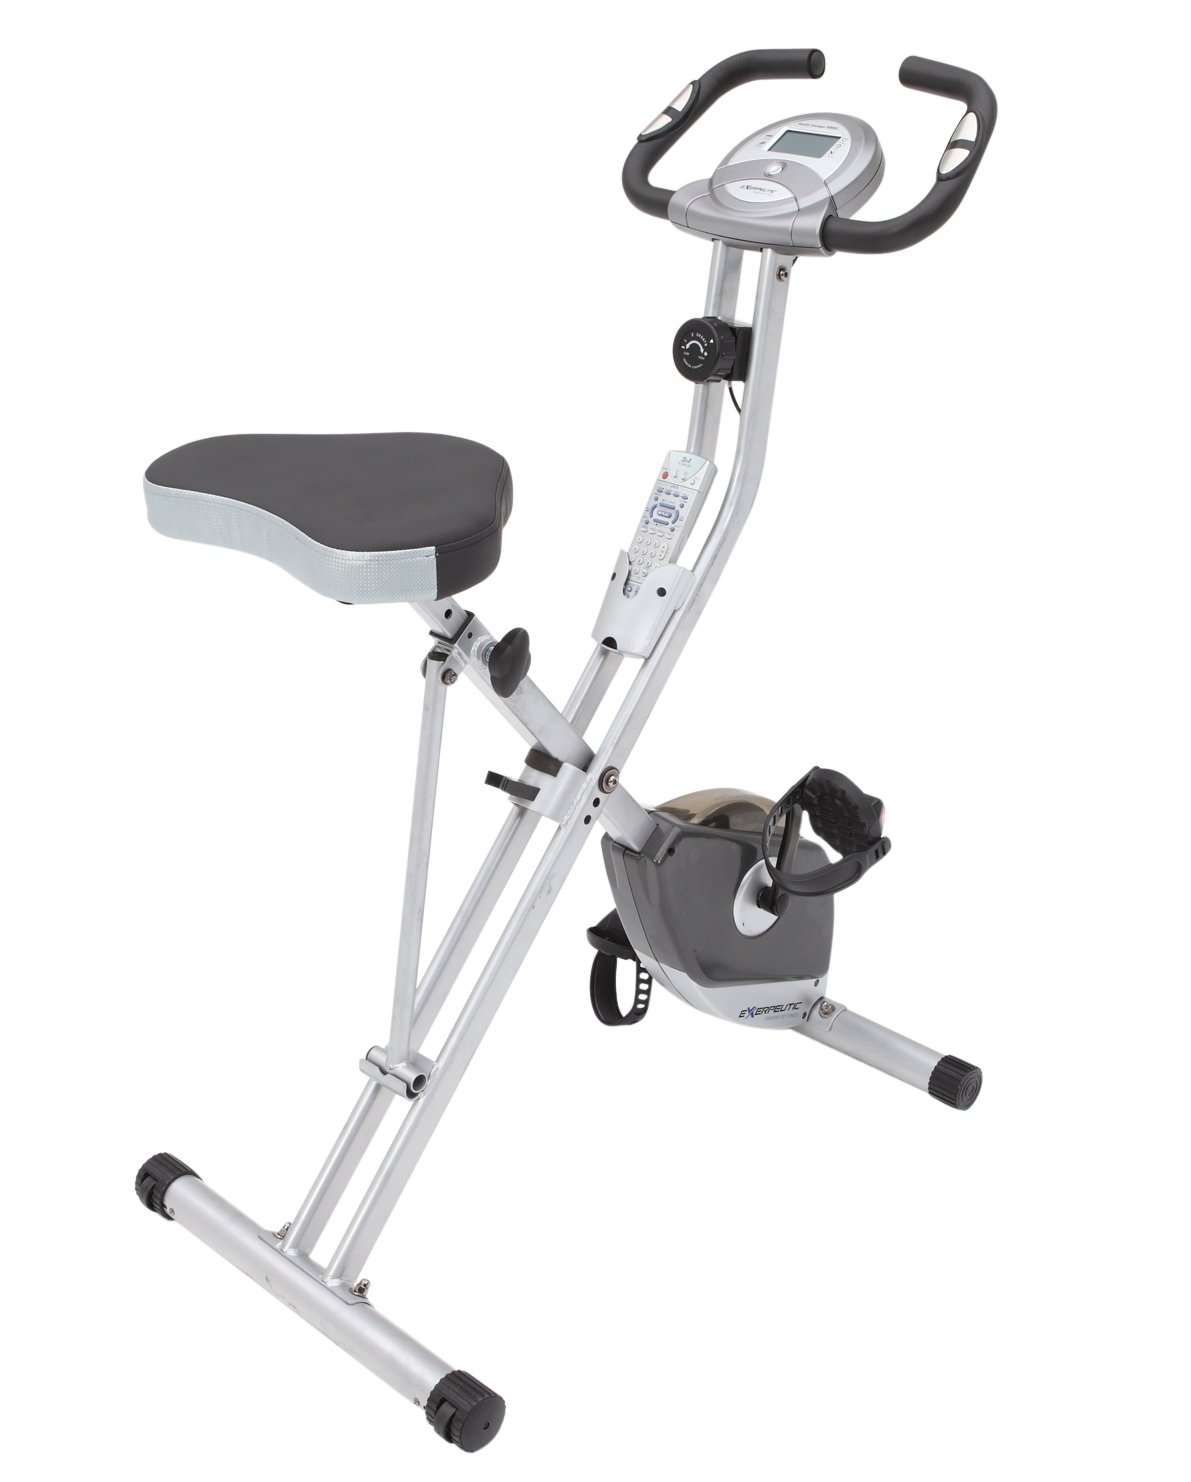gym_bike: (107, 52, 1062, 1450)
